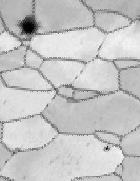good_void: (15, 10, 41, 39), (101, 143, 113, 152), (86, 140, 94, 148), (2, 98, 8, 106)
